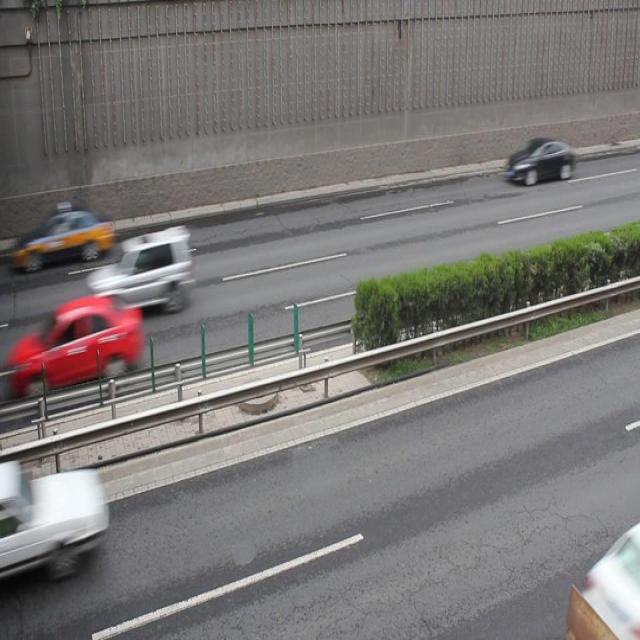car: (25, 297, 140, 390), (91, 223, 193, 315), (23, 205, 114, 270), (504, 133, 574, 187)
truck: (1, 463, 112, 578)
